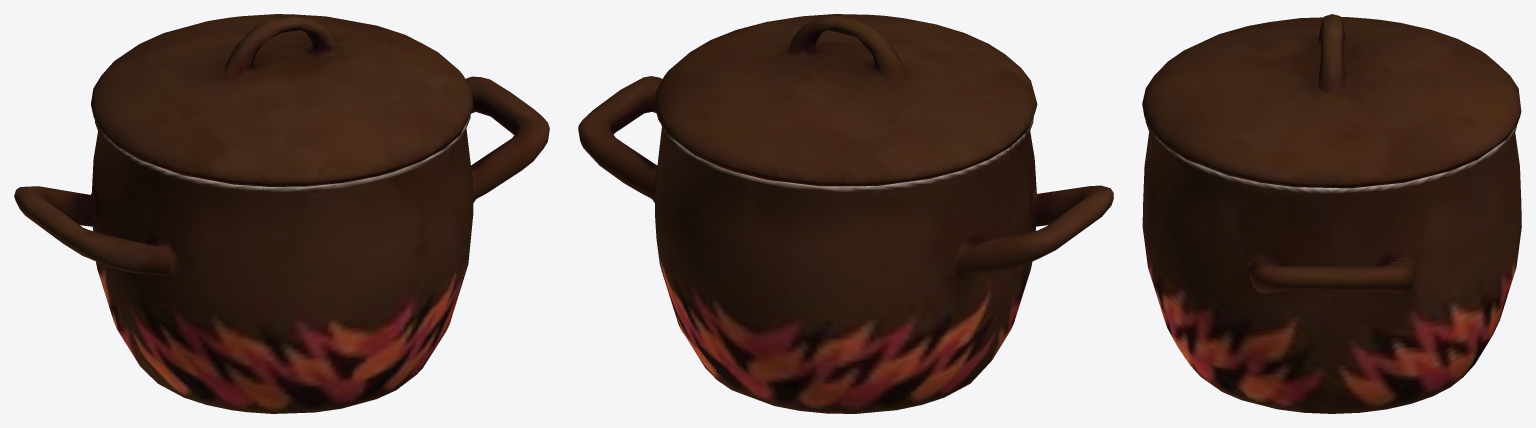
Rendered from pot_enamel_01.glb.
3 views of the same model, side by side, from view 1: azimuth 30°, elevation 25°; view 2: azimuth 150°, elevation 25°; view 3: azimuth 270°, elevation 25° (orthographic).
Parts seen in each view (by area): view 1: pot_enamel_01_lid; view 2: pot_enamel_01_lid; view 3: pot_enamel_01_lid.
Boxes of the visible parts, left/top/right/bottom form: pot_enamel_01_lid: left=14, top=14, right=549, bottom=413; pot_enamel_01_lid: left=578, top=14, right=1113, bottom=413; pot_enamel_01_lid: left=1142, top=14, right=1521, bottom=413.
Bounding box in the file's own units: 0.2627 × 0.1778 × 0.1803.
Materials: 1 (1 with a texture image).
